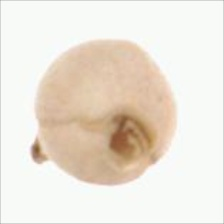L3: (105, 112, 155, 167)
L4: (30, 39, 176, 185)
